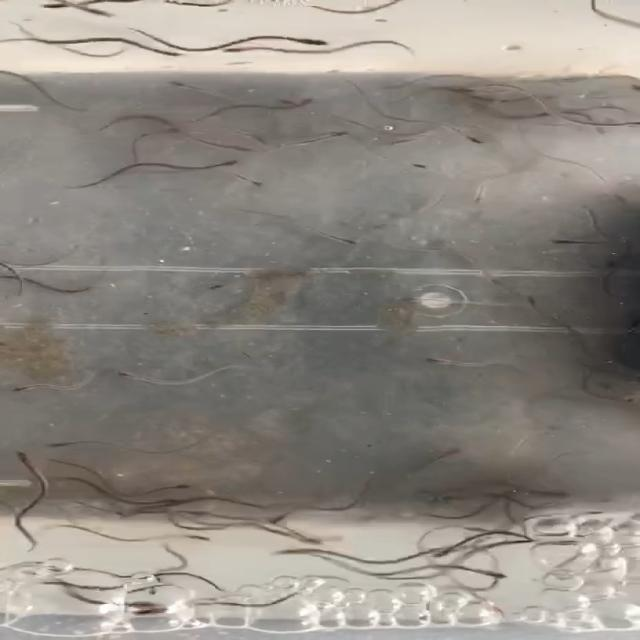active_glass_eel: (279, 32, 330, 49), (66, 2, 123, 17), (424, 351, 469, 369), (200, 155, 248, 171), (211, 42, 256, 57), (270, 96, 326, 108), (260, 508, 297, 526), (35, 0, 74, 17), (202, 278, 243, 294), (167, 80, 205, 96), (310, 128, 353, 142), (128, 604, 169, 618), (12, 450, 40, 470), (518, 291, 544, 312), (468, 567, 507, 581), (428, 544, 462, 560), (148, 48, 193, 60), (140, 579, 170, 597), (41, 438, 89, 449), (300, 532, 335, 547), (111, 367, 145, 382), (240, 130, 271, 146), (152, 492, 190, 505), (4, 384, 44, 396), (274, 99, 310, 112), (113, 510, 149, 523), (330, 234, 363, 248), (584, 119, 610, 136), (232, 175, 264, 188), (183, 530, 212, 544), (403, 158, 435, 170), (383, 138, 421, 148), (458, 134, 484, 147), (170, 482, 197, 494), (544, 236, 574, 246), (471, 187, 486, 202)
